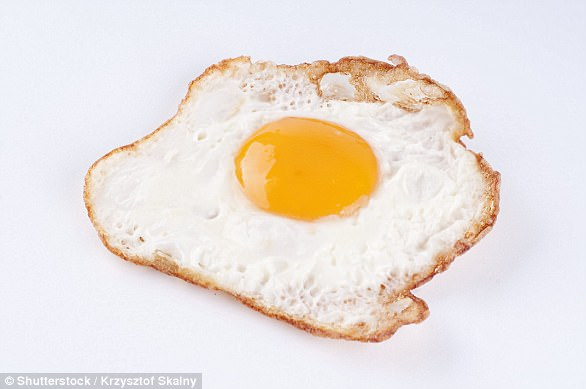fried egg: (87, 65, 503, 344)
